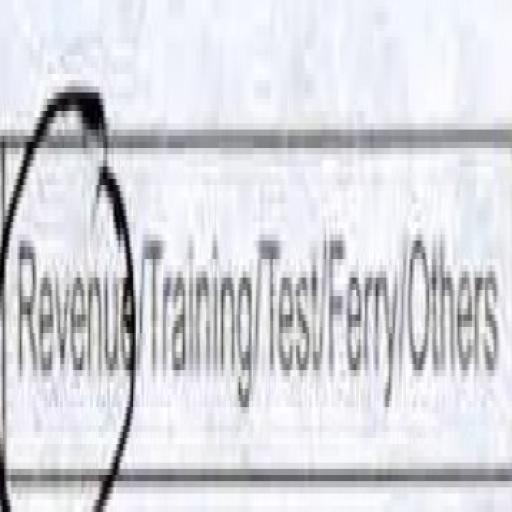check: (0, 30, 136, 512)
